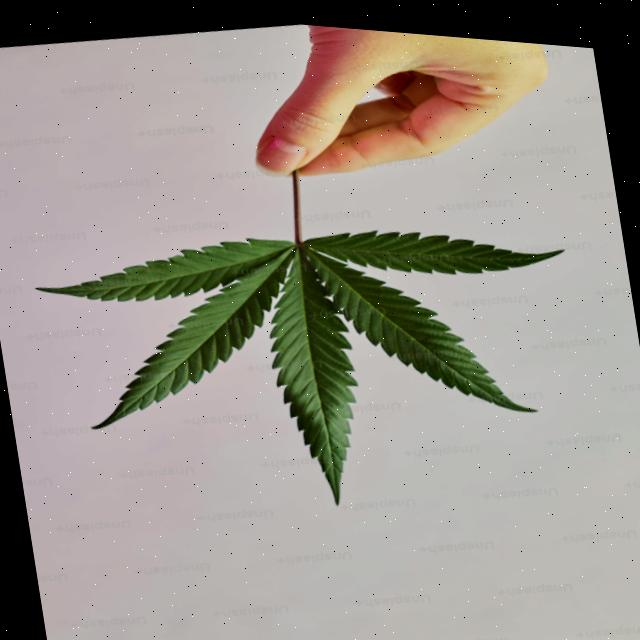cannabis: (39, 194, 562, 504)
